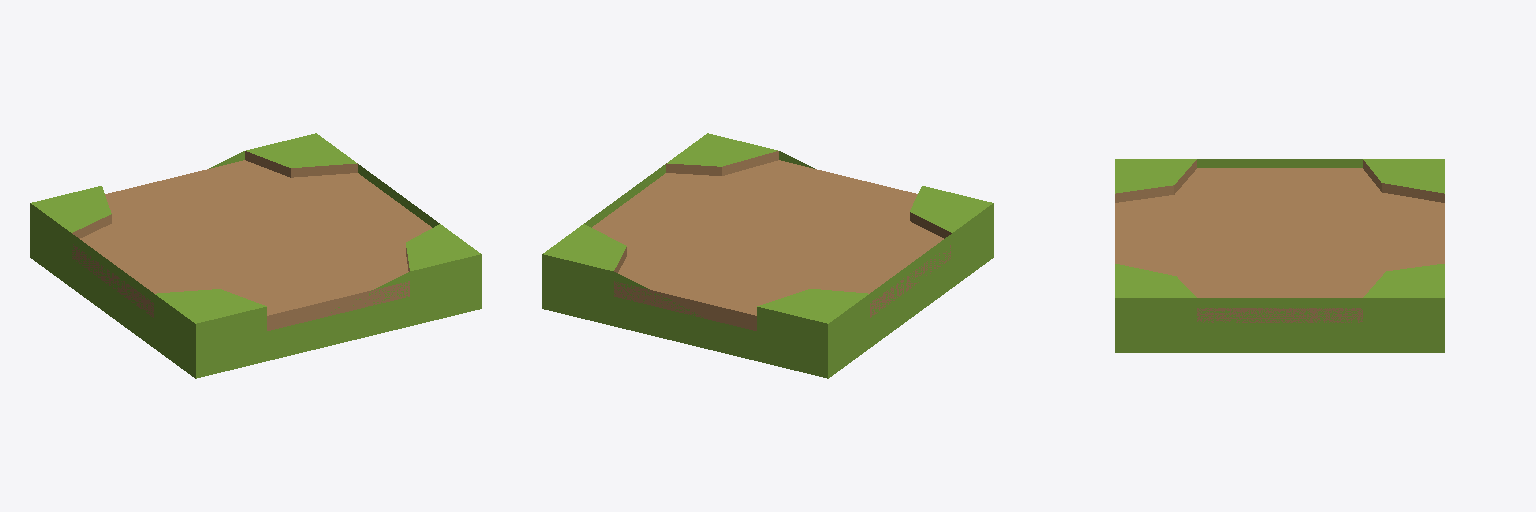
3 views of the same model, side by side, from view 1: azimuth 30°, elevation 25°; view 2: azimuth 150°, elevation 25°; view 3: azimuth 270°, elevation 25° (orthographic).
Visible parts, largest first — view 1: roadTile_014.001; view 2: roadTile_014.001; view 3: roadTile_014.001.
Part boxes in pixels (x1,y1,x2,y2): roadTile_014.001: (30, 133, 481, 378); roadTile_014.001: (542, 133, 993, 378); roadTile_014.001: (1115, 159, 1444, 352).
Bounding box in the file's own units: 3 × 0.55 × 3.